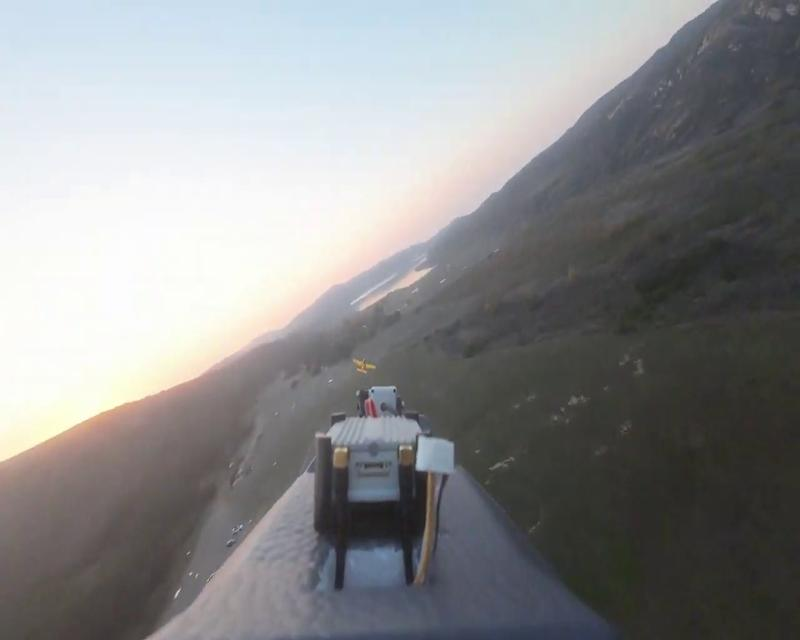UAV: (310, 383, 455, 590), (353, 354, 377, 374)
